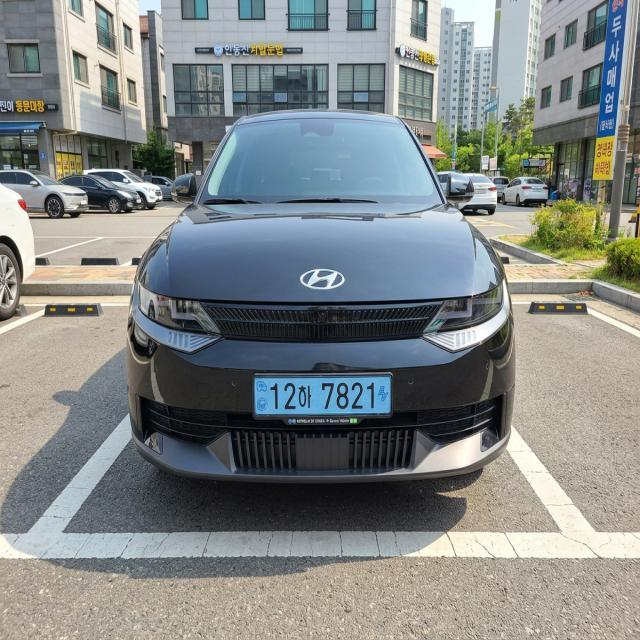car: (245, 367, 403, 433)
carev: (255, 376, 269, 416), (376, 380, 390, 412)
